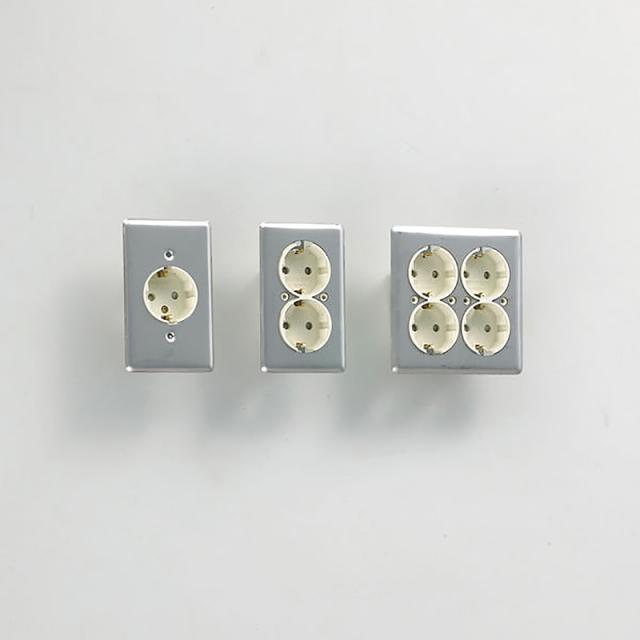typeb: (360, 205, 560, 435), (240, 197, 356, 427), (106, 195, 220, 407)
